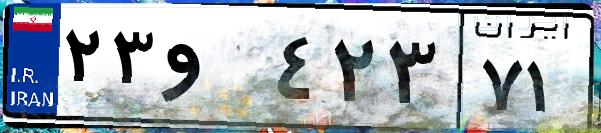1: (525, 38, 570, 115)
2: (330, 28, 385, 110), (57, 26, 110, 100)
3: (385, 28, 445, 110), (110, 28, 158, 98)
4: (270, 28, 330, 110)
7: (475, 38, 525, 113)
و: (158, 20, 270, 120)
